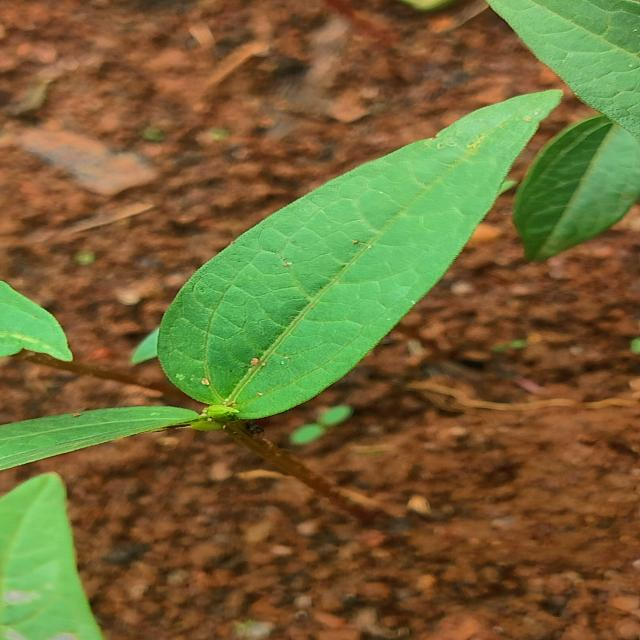Black gram_healthy: (146, 93, 570, 425)
